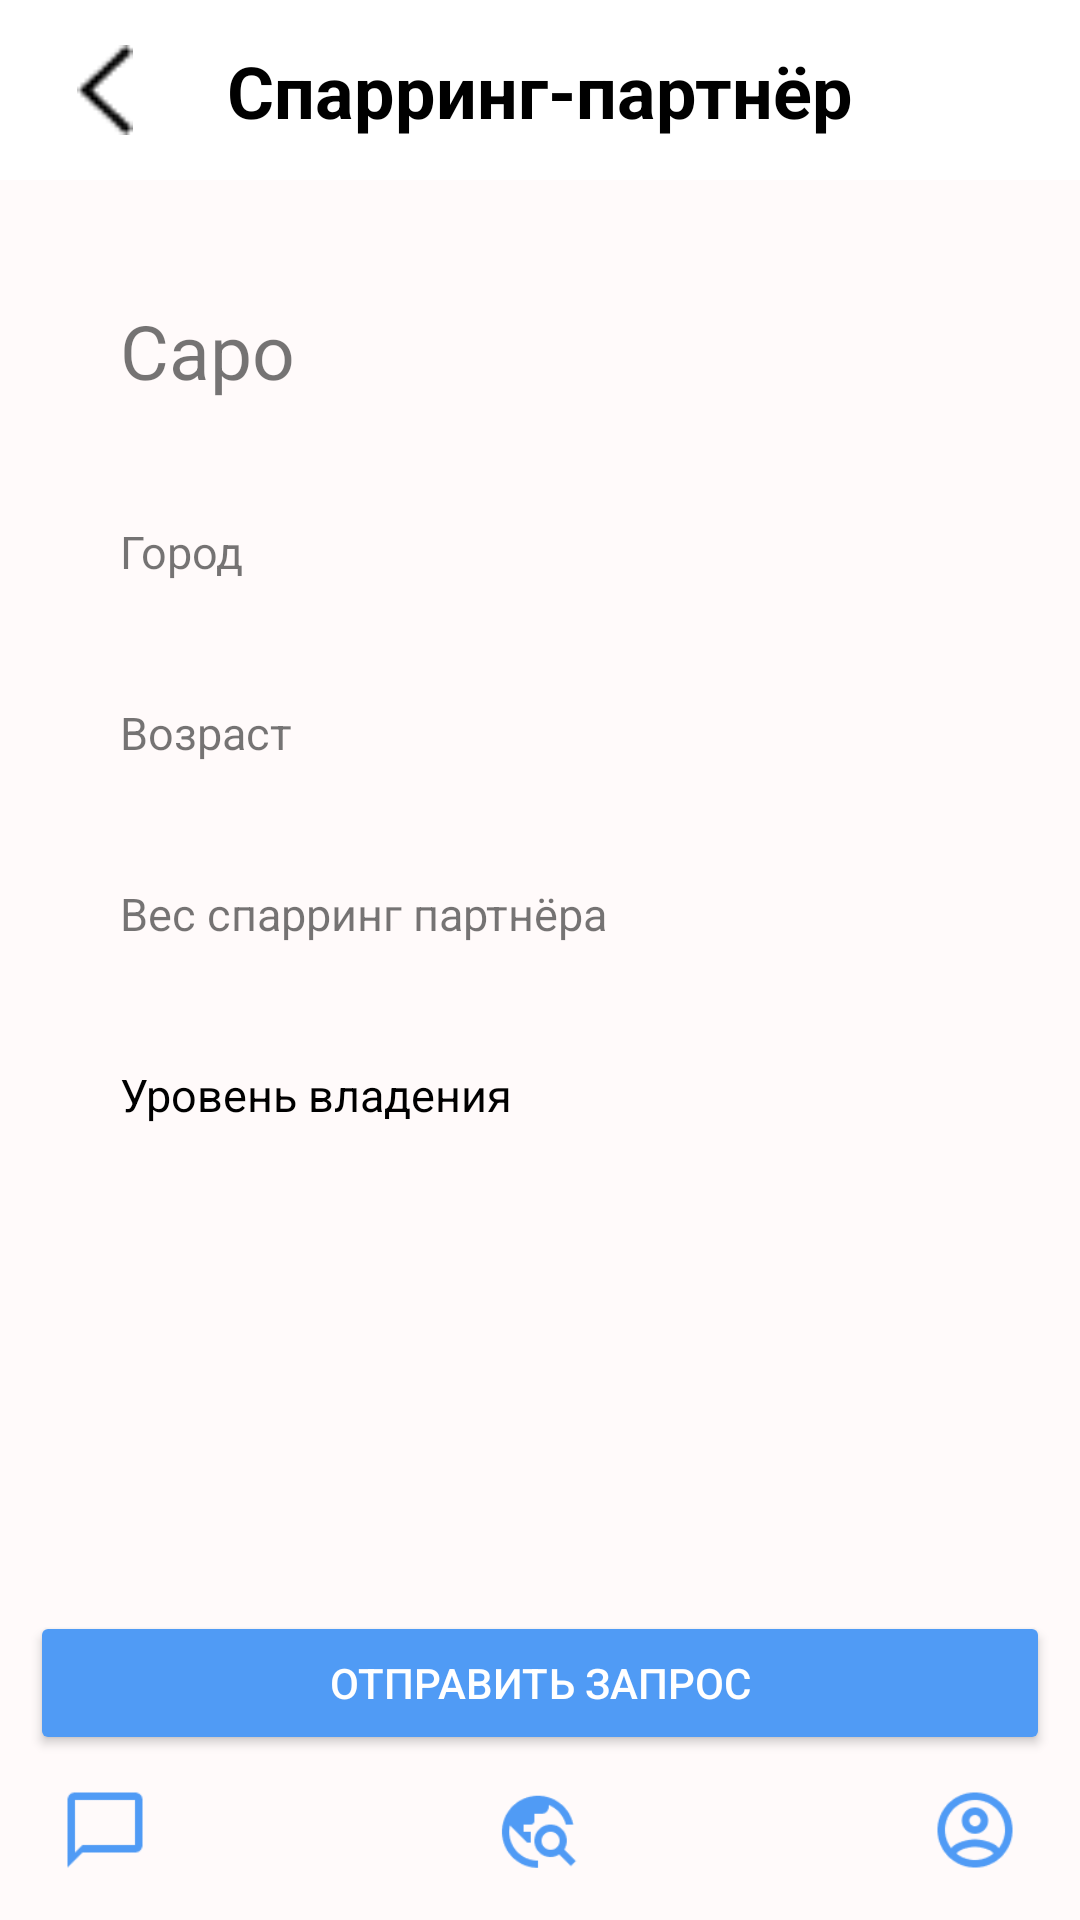

Screen size 1080*1920. Icon name, then its center in pixels as (x,y):
chat: (105,1830)
profile: (975,1830)
search: (539,1831)
